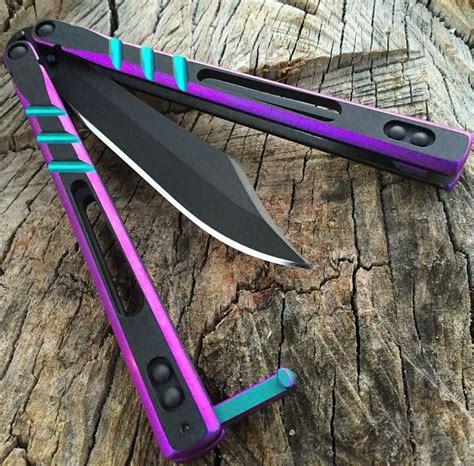knife: (2, 19, 474, 466)
